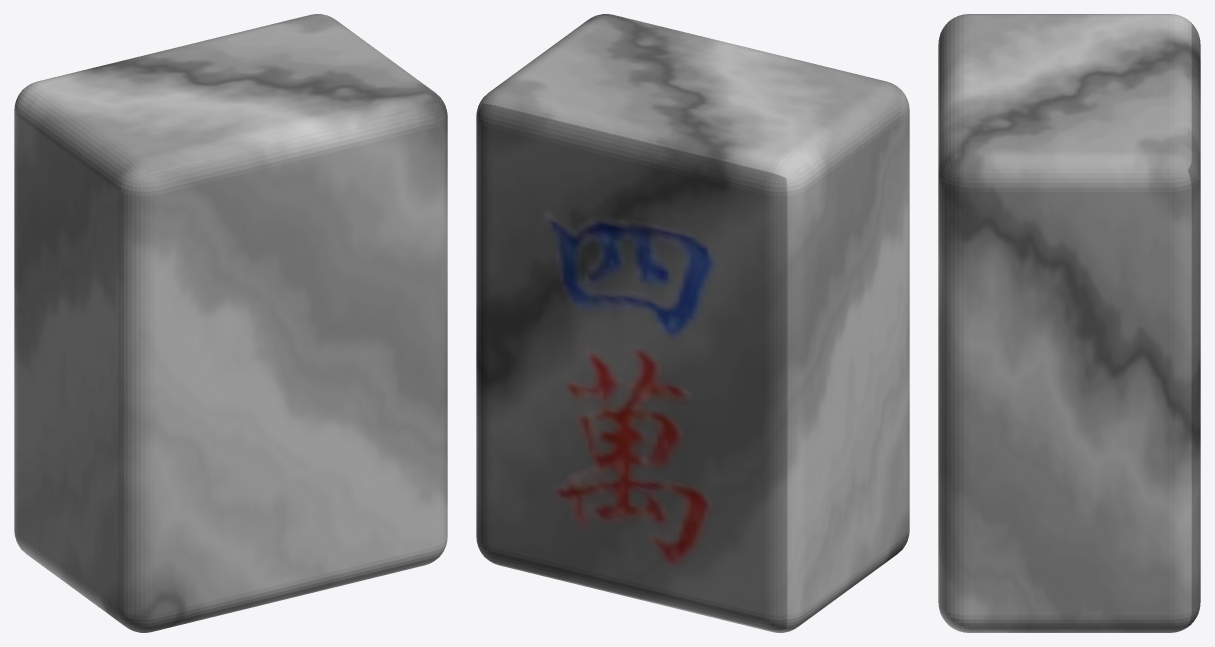
Rendered from wan4.fbx.
The picture shows the model from 3 angles, left to right: view 1: azimuth 30°, elevation 25°; view 2: azimuth 150°, elevation 25°; view 3: azimuth 270°, elevation 25°; orthographic projection.
Visible parts, largest first — view 1: wan4; view 2: wan4; view 3: wan4.
Part boxes in pixels (x1=…): wan4: x1=14, y1=14, x2=447, y2=632; wan4: x1=476, y1=14, x2=909, y2=632; wan4: x1=938, y1=14, x2=1200, y2=632.
Size of the model in its own units: 100 by 139 by 69.
Materials: 1 (1 with a texture image).
